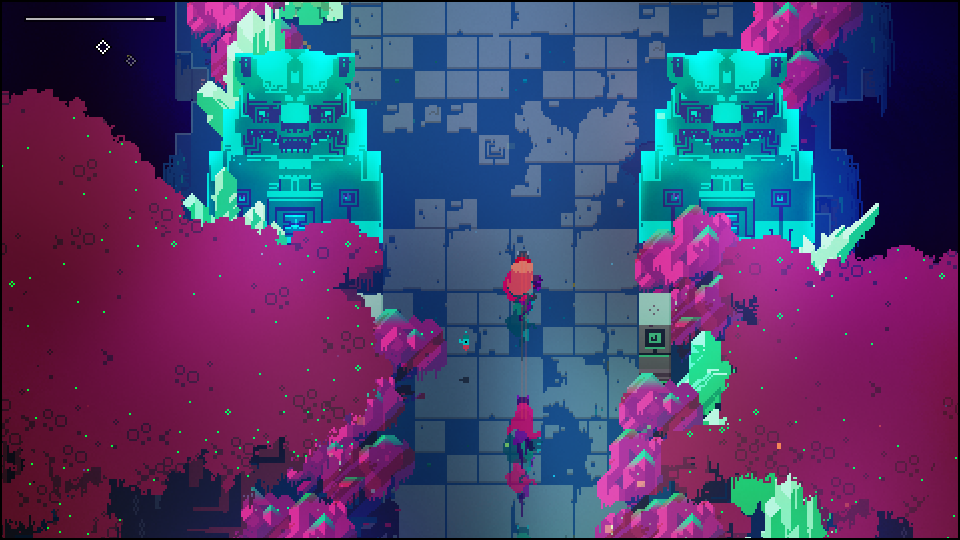player: (502, 248, 535, 308)
